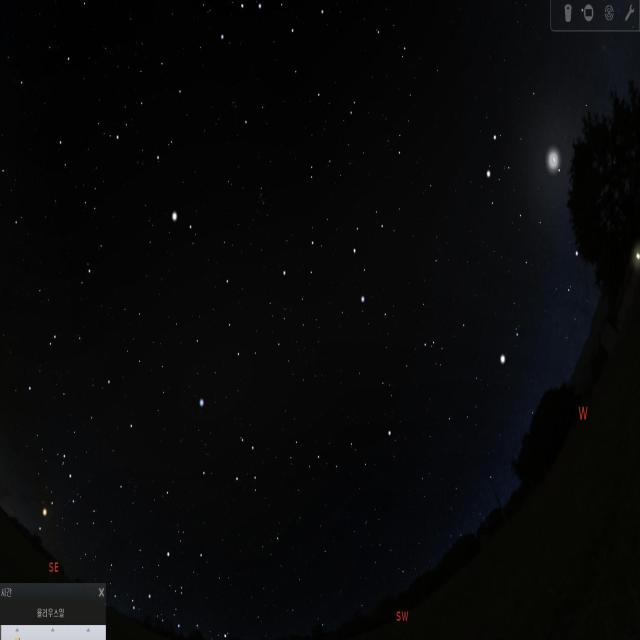bootes: (127, 54, 195, 243)
canis_minor: (492, 312, 524, 371)
gemini: (477, 107, 588, 263)
leo: (271, 197, 398, 325)
moon: (539, 134, 573, 189)
scorpius: (34, 441, 84, 547)
